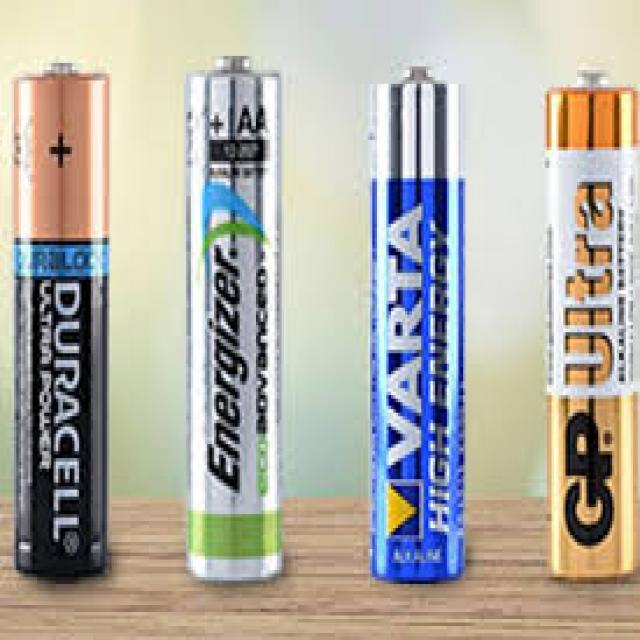non-organic waste: (176, 51, 286, 598), (10, 62, 111, 587), (364, 63, 464, 587), (543, 68, 640, 587)
